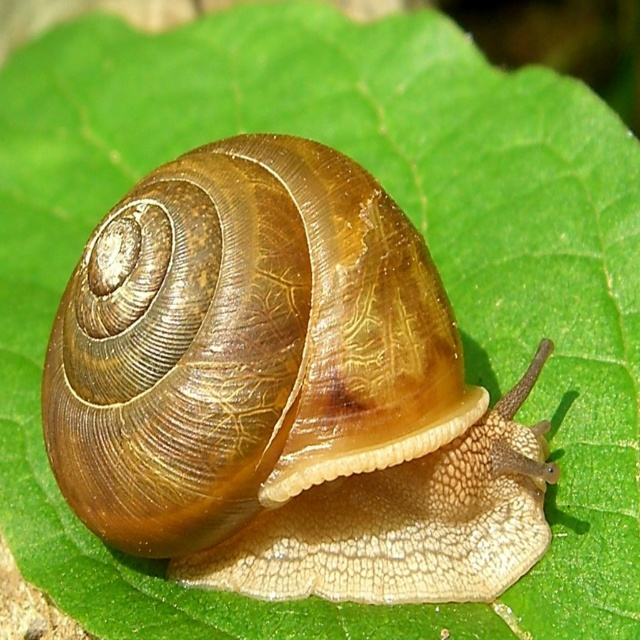Snail: (42, 133, 560, 606)
